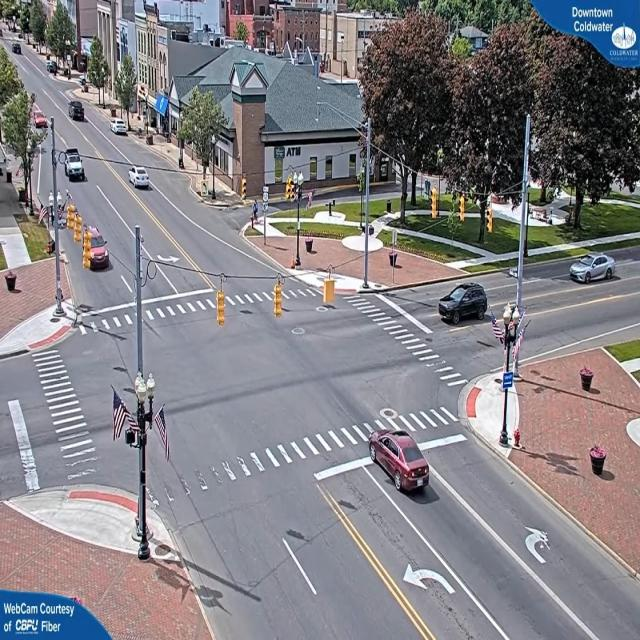car: (369, 430, 431, 493), (439, 285, 488, 326), (570, 254, 616, 283), (84, 235, 112, 272), (63, 153, 87, 182), (129, 167, 151, 188), (112, 120, 128, 136)
